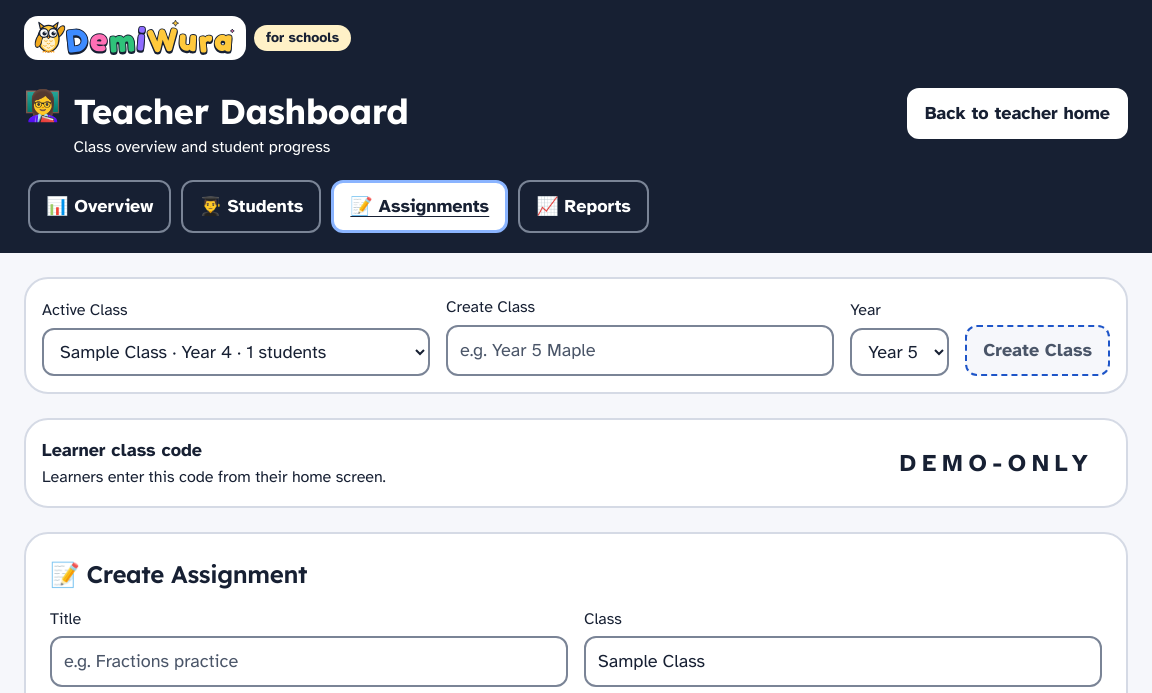
Test: Clear Path teacher presentation preserves actions and data › keeps assignment fields and exact shared API payload
Expected: the text "DEMO-ONLY" is shown, [884,439,1110,487]
Type " New fractions " into the field labelled "Title".
click(309, 662); type(" New fractions ")  # box [50,636,568,687]
(page scrolled)
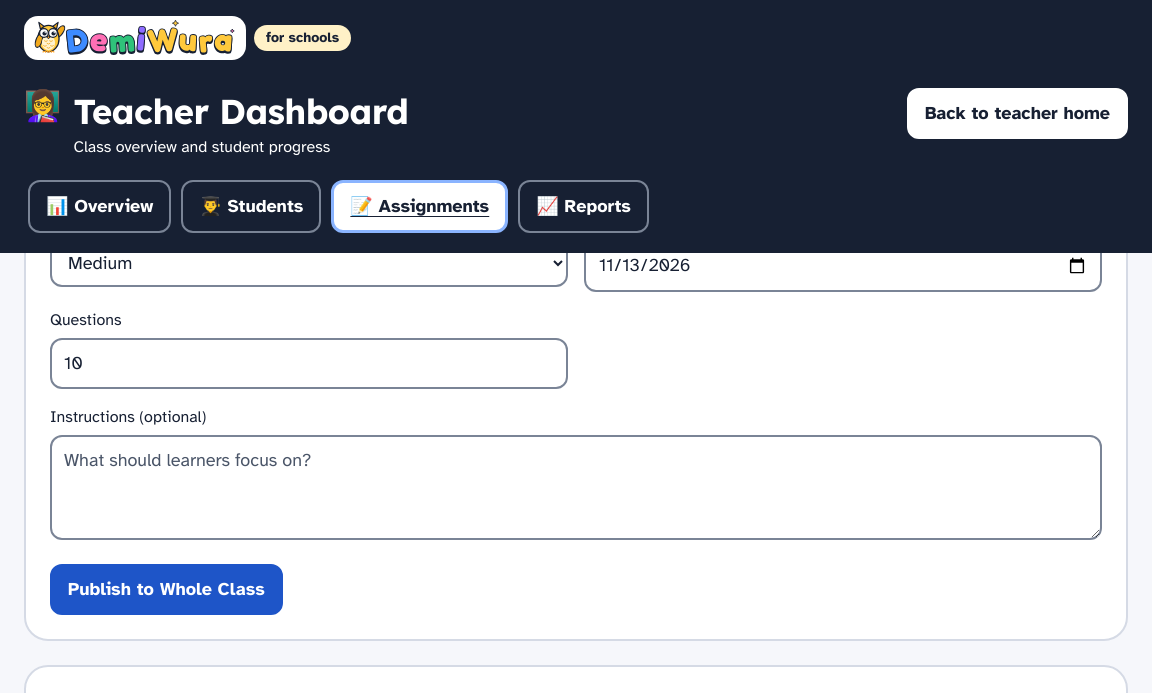
Type " Take your time " into the text box labelled "Instructions (optional)".
click(576, 487); type(" Take your time ")  # box [50,435,1102,540]
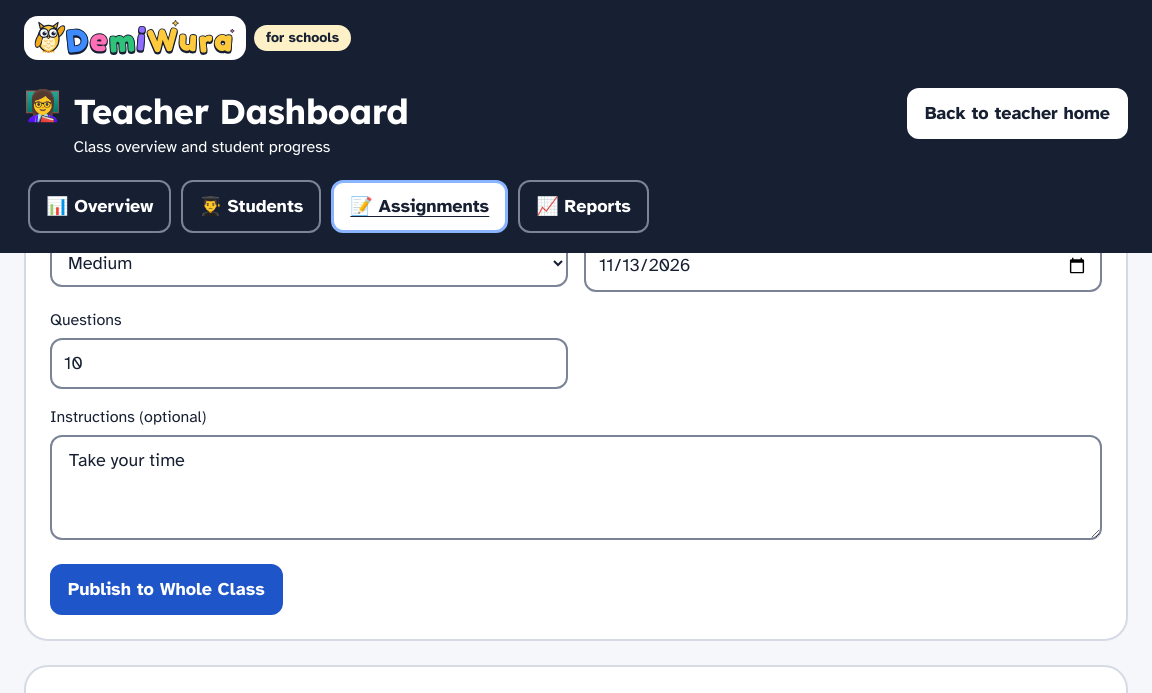
Type "2027-01-10" into the date field labelled "Due Date".
click(843, 266); type("2027-01-10")  # box [584,239,1102,292]
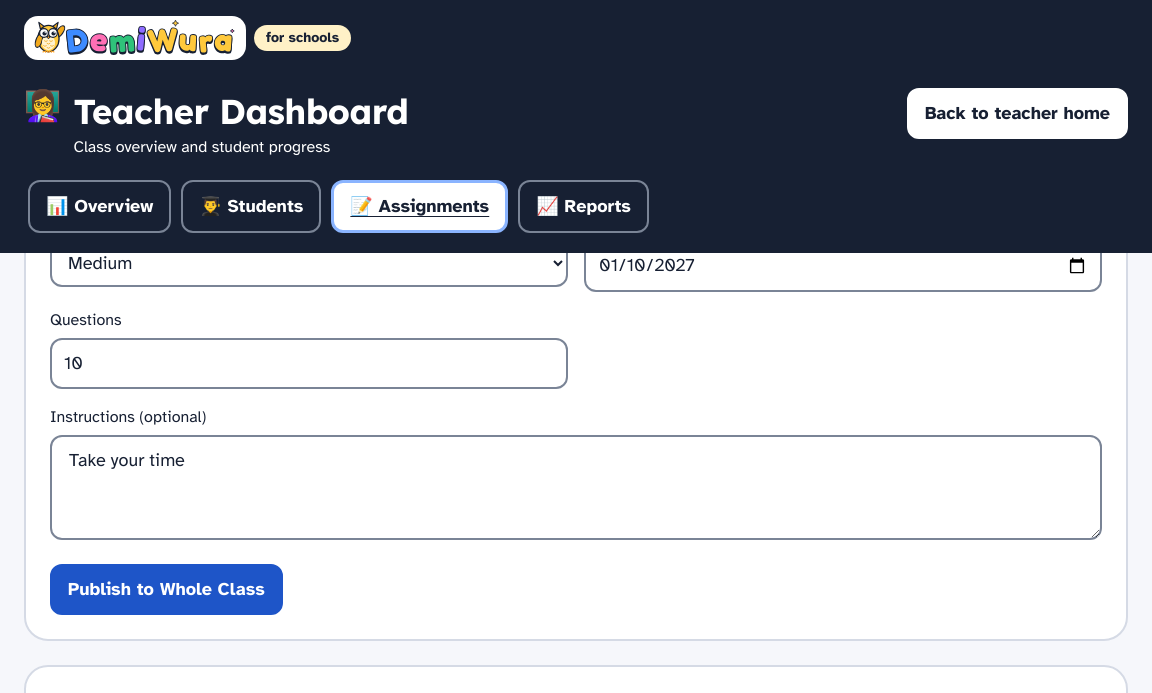
Click the button "Publish to Whole Class".
click(166, 590)  # box [50,564,283,615]
(page scrolled)
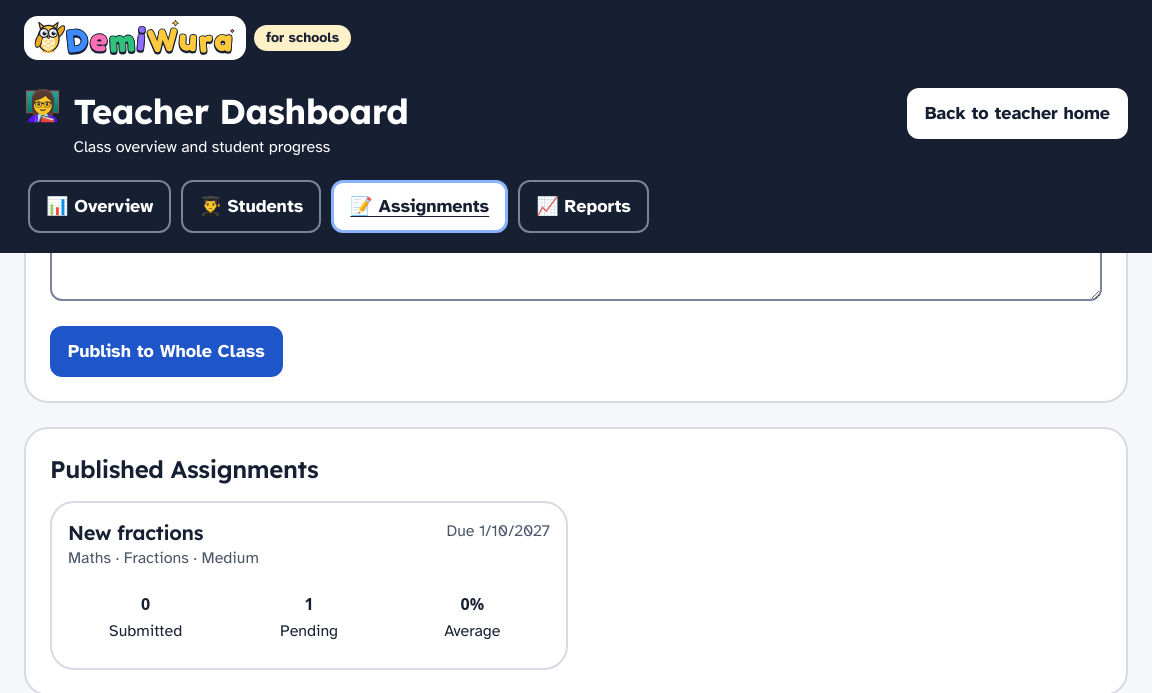
Expected: the heading "New fractions" is shown, [68,520,203,545]
